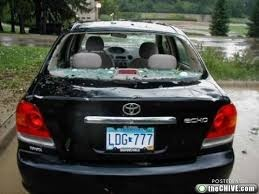Broken-glass: (44, 31, 209, 83)
Dent: (60, 85, 104, 106), (202, 87, 220, 102), (65, 136, 73, 152)
Scratch: (136, 161, 152, 166), (101, 187, 114, 193)
